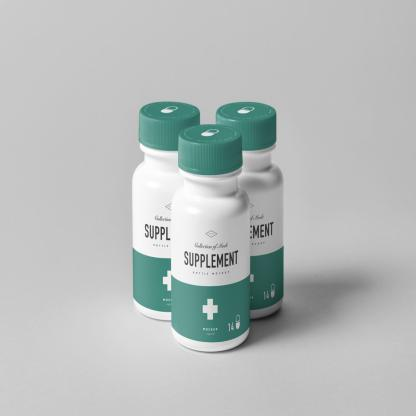jar: (171, 124, 250, 352)
